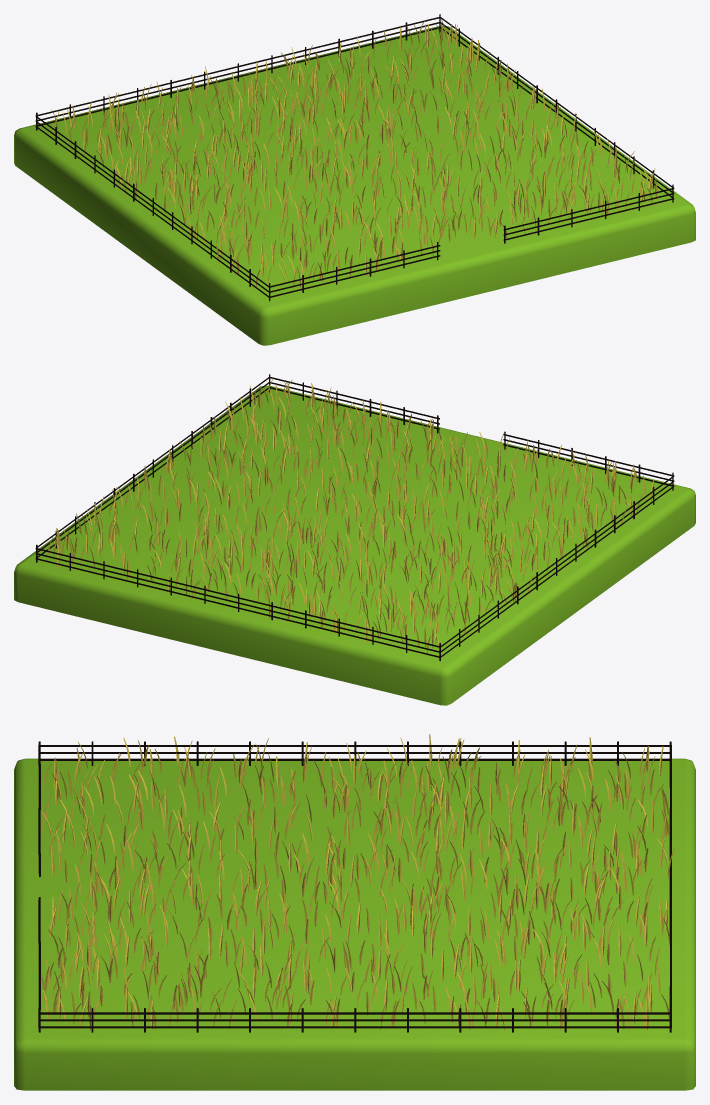
Rendered from Champ.FBX.
3 views of the same model, one above another, from view 1: azimuth 30°, elevation 25°; view 2: azimuth 150°, elevation 25°; view 3: azimuth 270°, elevation 25° (orthographic). The views are drawn at different scales.
Parts seen in each view (by area): view 1: Box026, Grass-O-matic001, Rectangle013, Cylinder010; view 2: Box026, Grass-O-matic001, Rectangle013, Cylinder010; view 3: Box026, Grass-O-matic001, Rectangle013, Cylinder010.
Part boxes in pixels (x1,y1,x2,y2): Box026: (14, 25, 695, 345); Grass-O-matic001: (51, 19, 657, 288); Rectangle013: (35, 17, 674, 297); Cylinder010: (36, 14, 673, 301); Box026: (14, 385, 695, 705); Grass-O-matic001: (48, 378, 654, 653); Rectangle013: (35, 377, 674, 657); Cylinder010: (36, 374, 673, 661); Box026: (14, 758, 695, 1090); Grass-O-matic001: (41, 734, 674, 1030); Rectangle013: (38, 745, 671, 1028); Cylinder010: (38, 741, 671, 1032).
Size of the model in its own units: 1297 by 163 by 1297.
